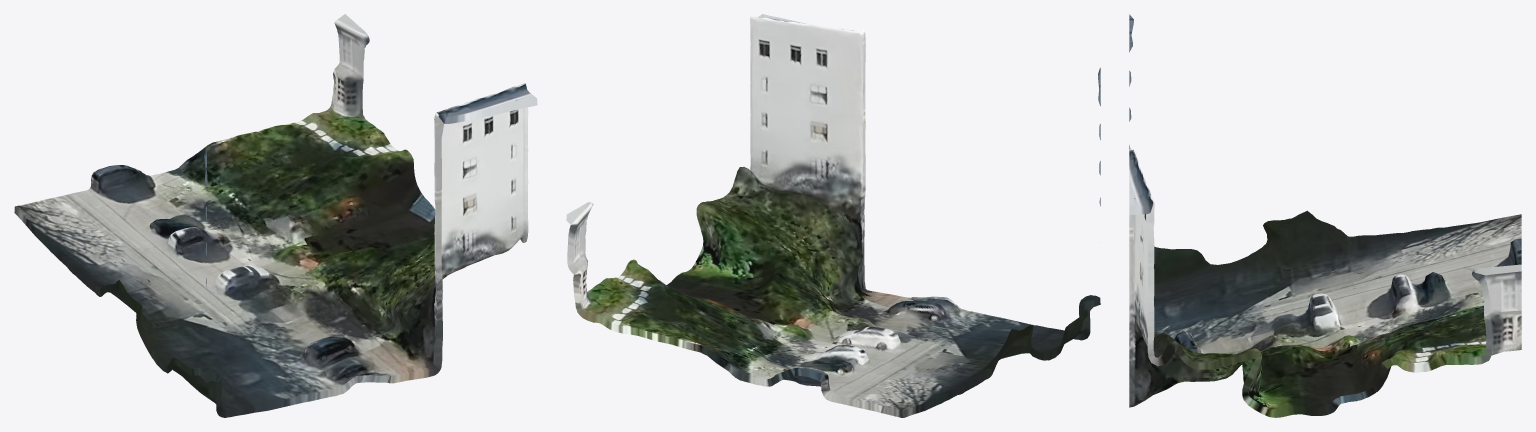
File: z20-167717-405192-h0-yup-uvflip-v3-world.glb
3 views of the same model, side by side, from view 1: azimuth 30°, elevation 25°; view 2: azimuth 150°, elevation 25°; view 3: azimuth 270°, elevation 25° (orthographic). The views are drawn at different scales.
Size of the model in its own units: 30.24 by 24.48 by 30.32.
Materials: 1 (1 with a texture image).
